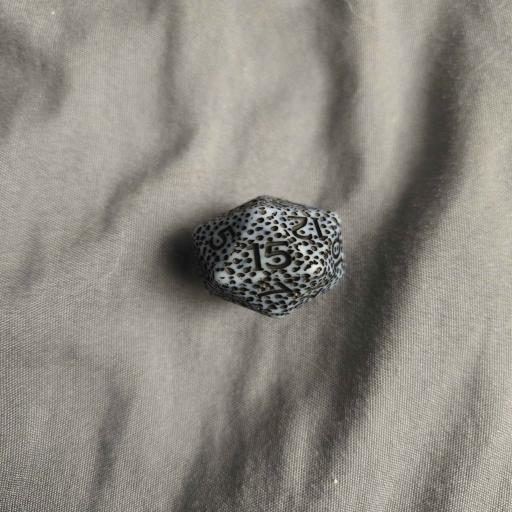twenty sided dice: (193, 195, 344, 319)
